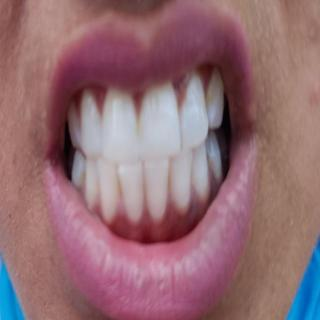stains: (202, 80, 216, 118), (168, 170, 178, 202), (135, 115, 147, 139), (117, 180, 125, 206)
